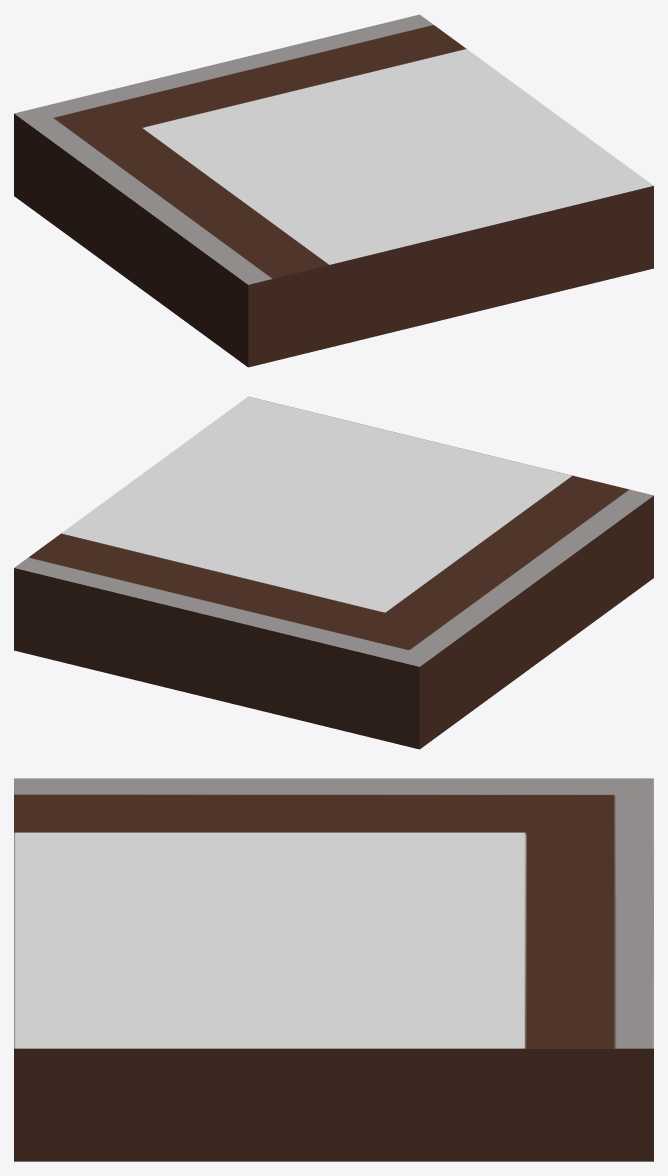
The model's file is MD_Tray_White_Corner.fbx.
3 views of the same model, one above another, from view 1: azimuth 30°, elevation 25°; view 2: azimuth 150°, elevation 25°; view 3: azimuth 270°, elevation 25° (orthographic). The views are drawn at different scales.
Parts seen in each view (by area): view 1: Tray_White_Corner; view 2: Tray_White_Corner; view 3: Tray_White_Corner.
Part boxes in pixels (left/top/right/bottom): Tray_White_Corner: left=14, top=14, right=653, bottom=367; Tray_White_Corner: left=14, top=396, right=653, bottom=749; Tray_White_Corner: left=14, top=778, right=653, bottom=1161.
Size of the model in its own units: 4.38 by 0.8531 by 4.38.
